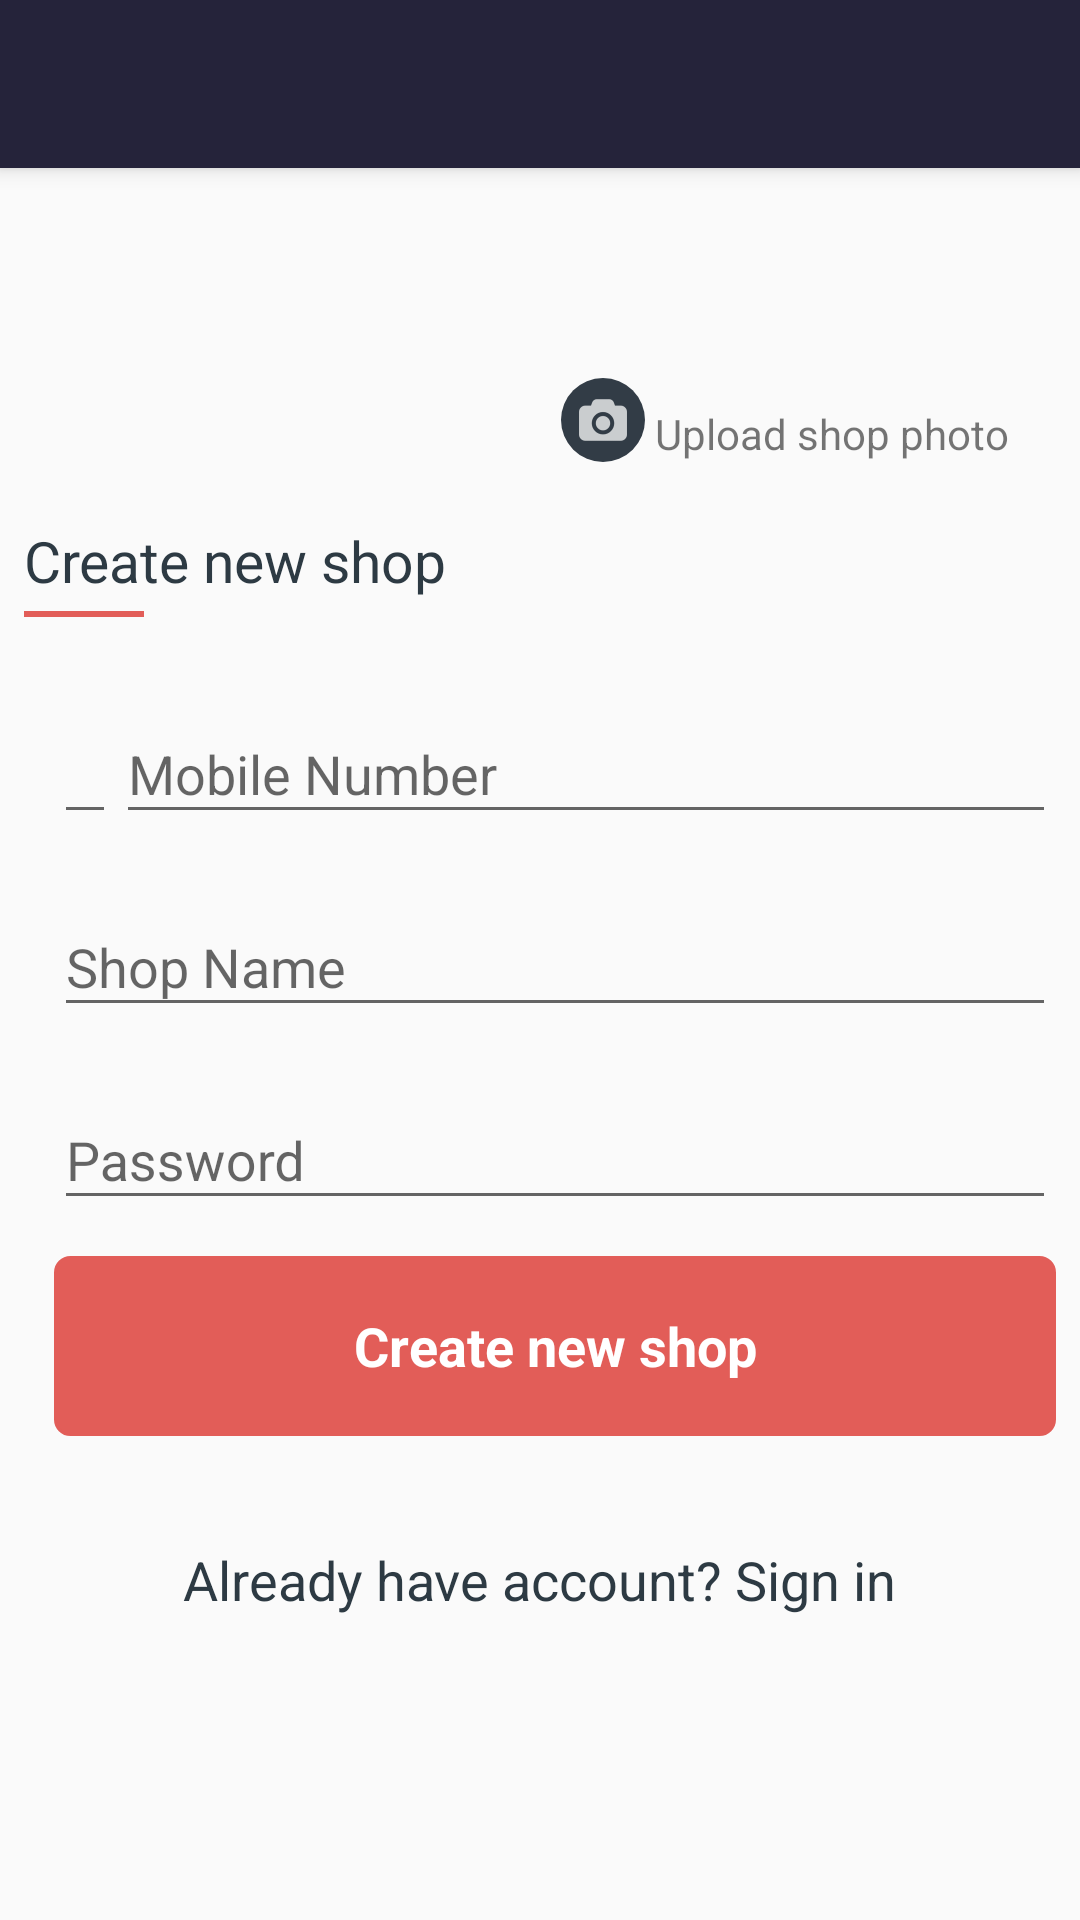

Icons on this 1080 x 1920 Android screen, each with the point to tap as (x,y):
photo camera: (603,420)
